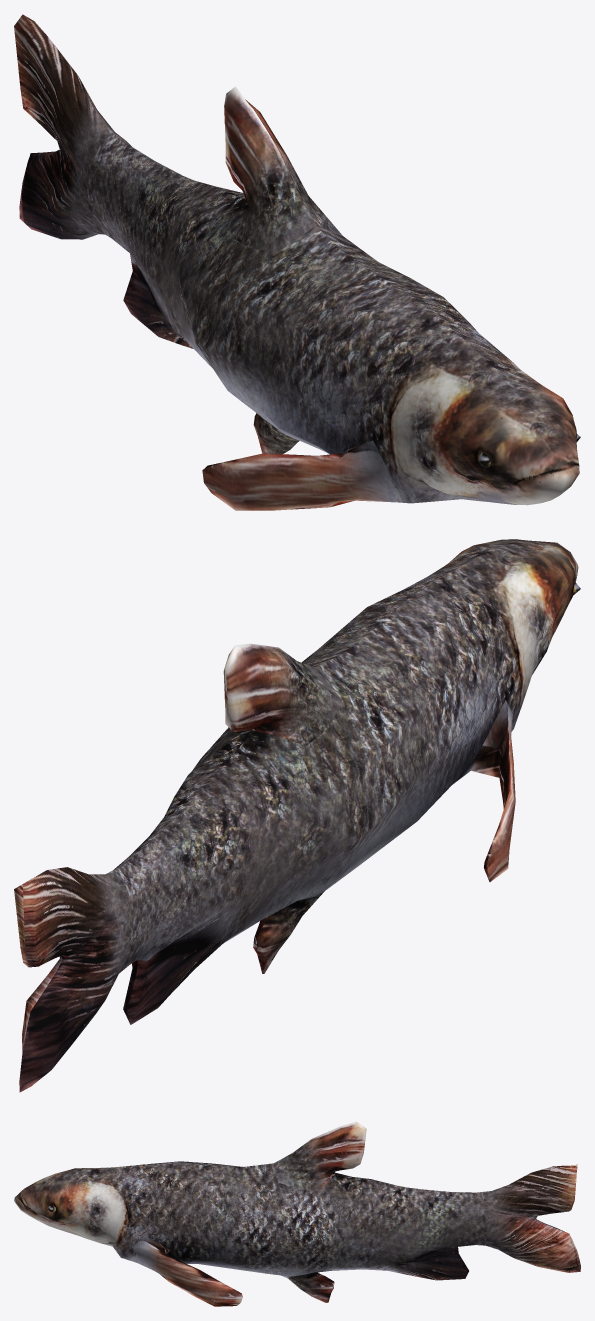
File: Peces.glb
The picture shows the model from 3 angles, top to bottom: view 1: azimuth 30°, elevation 25°; view 2: azimuth 150°, elevation 25°; view 3: azimuth 270°, elevation 25°; orthographic projection. The views are drawn at different scales.
Parts seen in each view (by area): view 1: Object_7; view 2: Object_7; view 3: Object_7.
Part boxes in pixels (x1,y1,x2,y2): Object_7: [14, 14, 580, 510]; Object_7: [14, 539, 580, 1092]; Object_7: [14, 1121, 580, 1306].
Size of the model in its own units: 1.6 by 1.86 by 5.27.
1 material, 1 textured.
